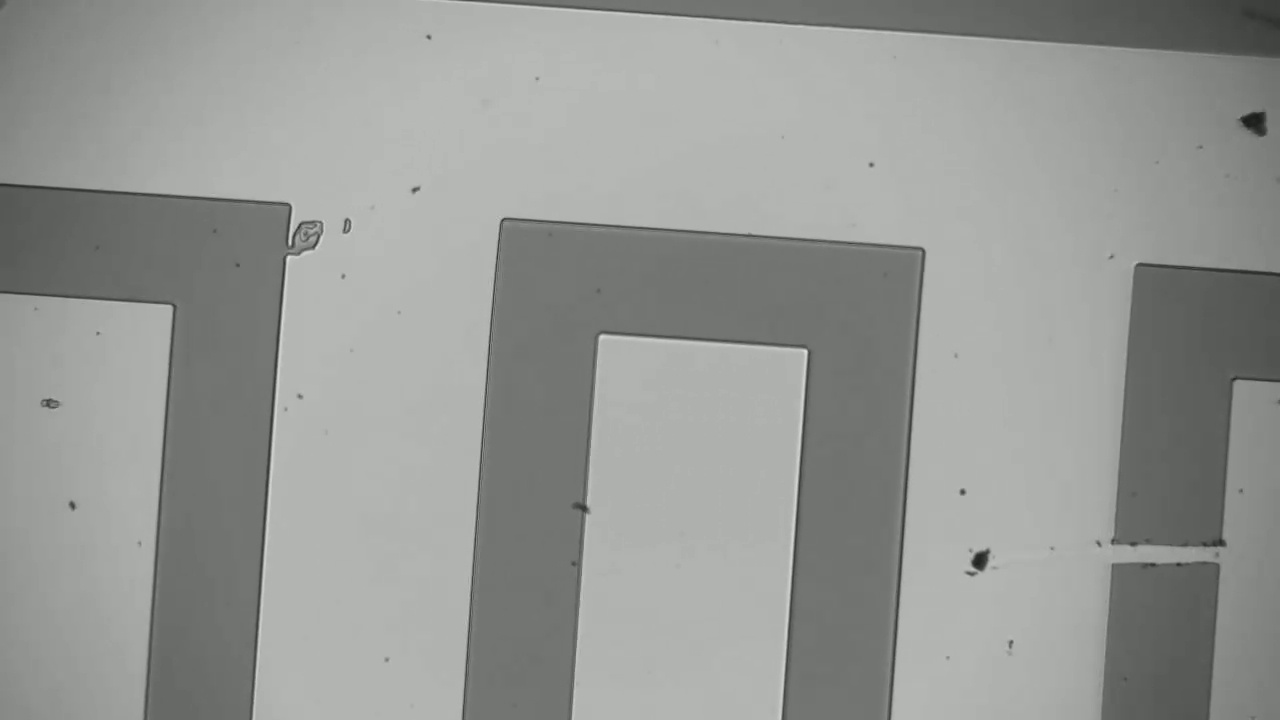Short_circuit: (1083, 518, 1249, 586)
